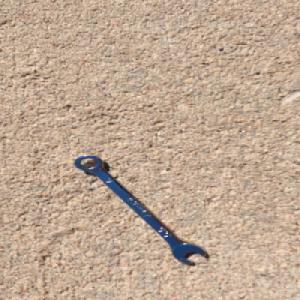Wrench: (72, 152, 212, 267)
